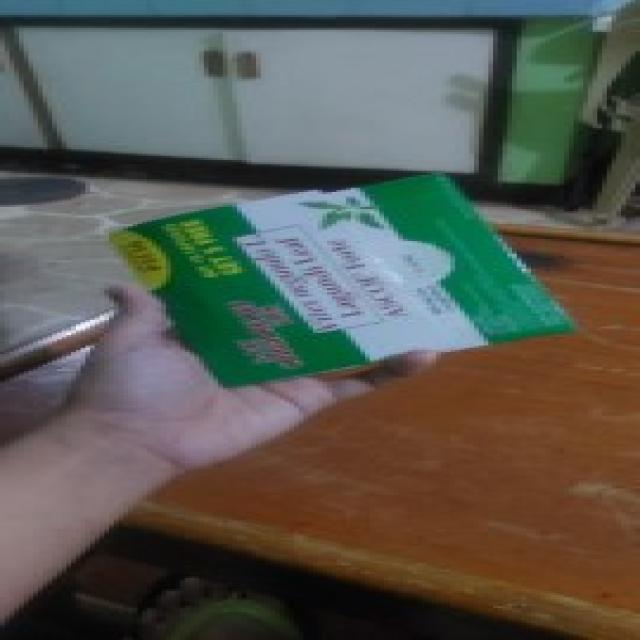Cacat: (100, 172, 578, 391)
